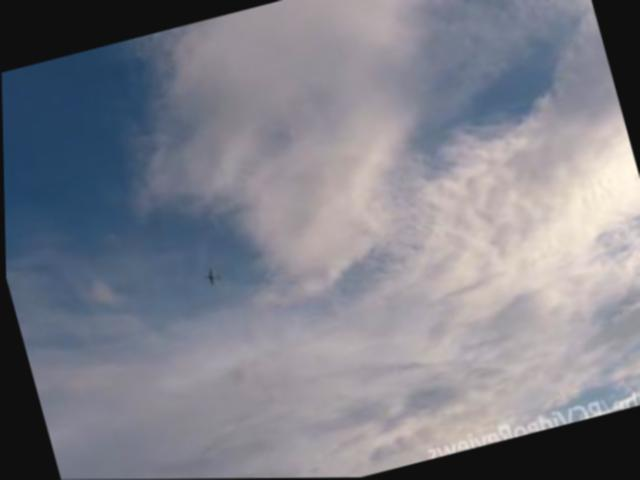uav: (197, 259, 228, 292)
